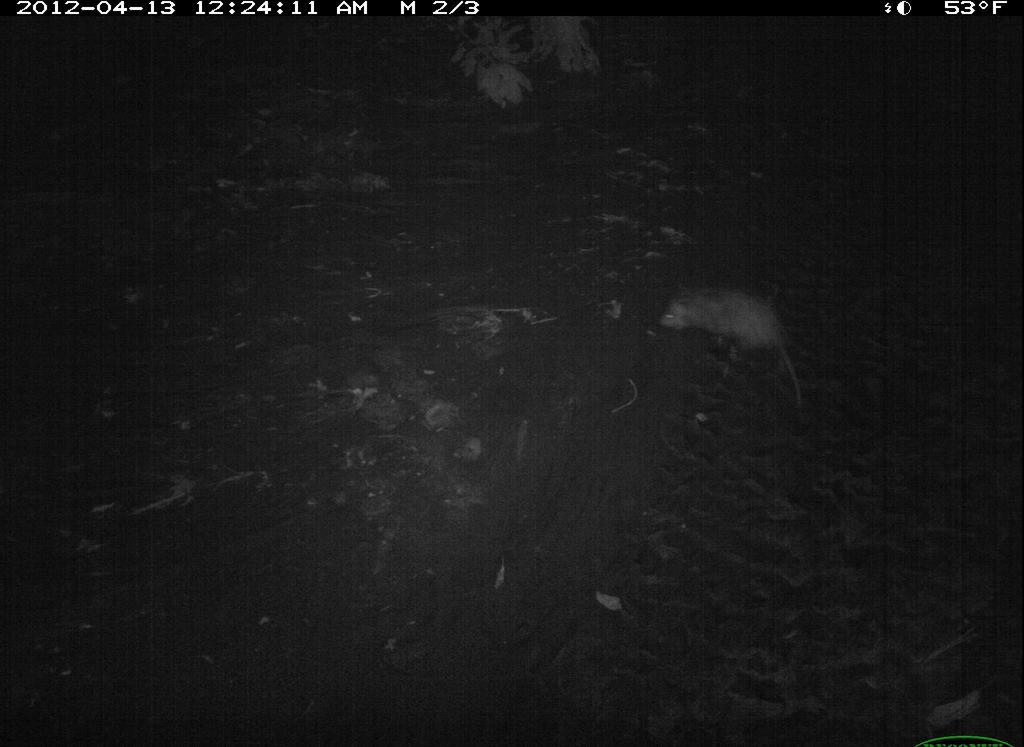opossum: (652, 272, 818, 396)
